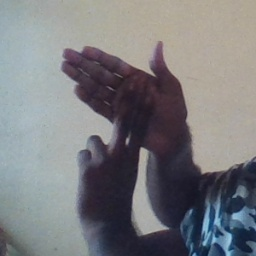N: (51, 34, 184, 190)
